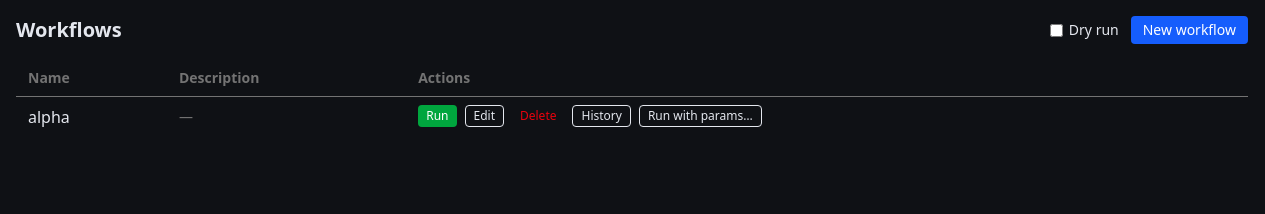
Workflows page — run-history drawer › run history drawer shows an empty state when no runs exist
This screenshot has width=1265, height=214.
Check: the text "alpha" is shown, box [16,96,167,137]
Click the button with aria-label "show history for alpha". click: (602, 116)
box: [572,105,631,127]
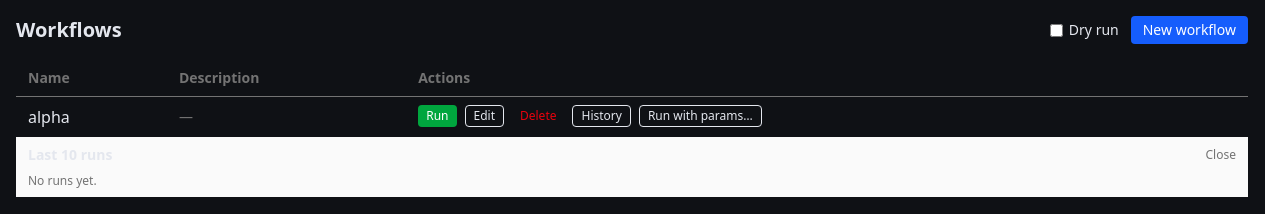
Check: the text "No runs yet." is shown, box [28,172,97,189]
